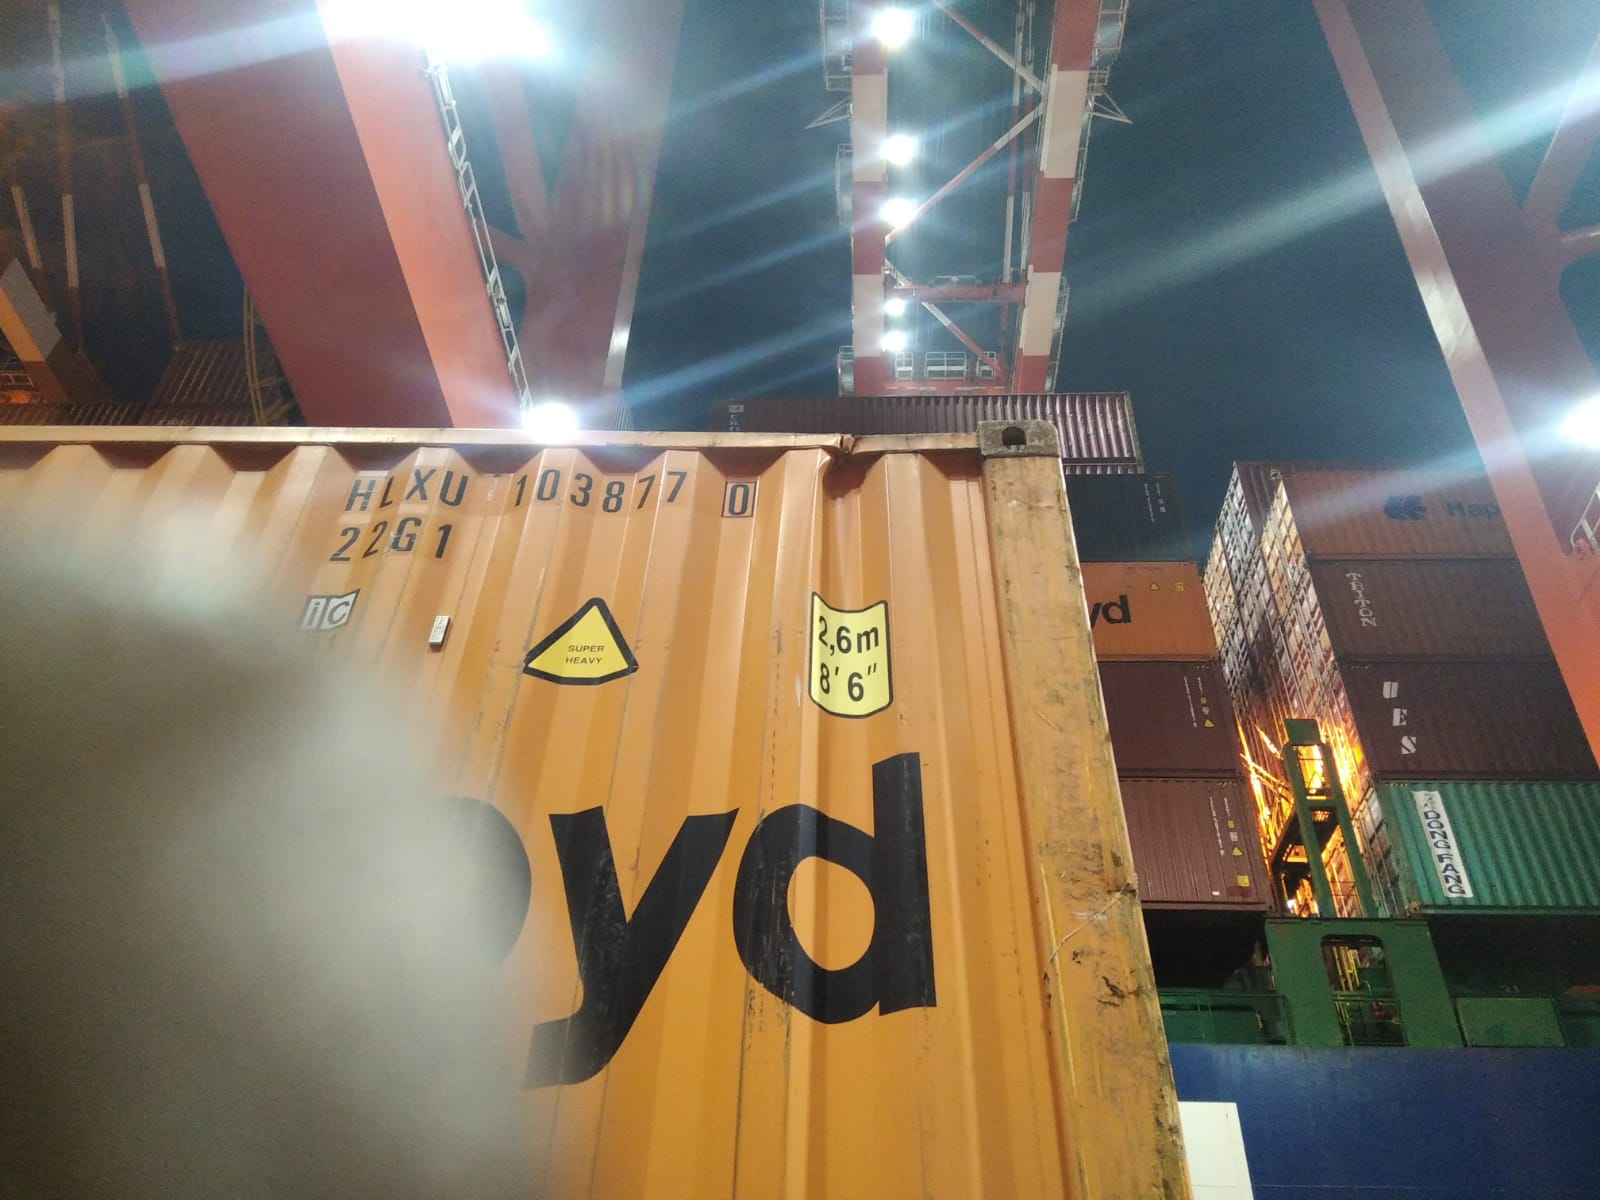bulged: (743, 453, 1004, 673)
